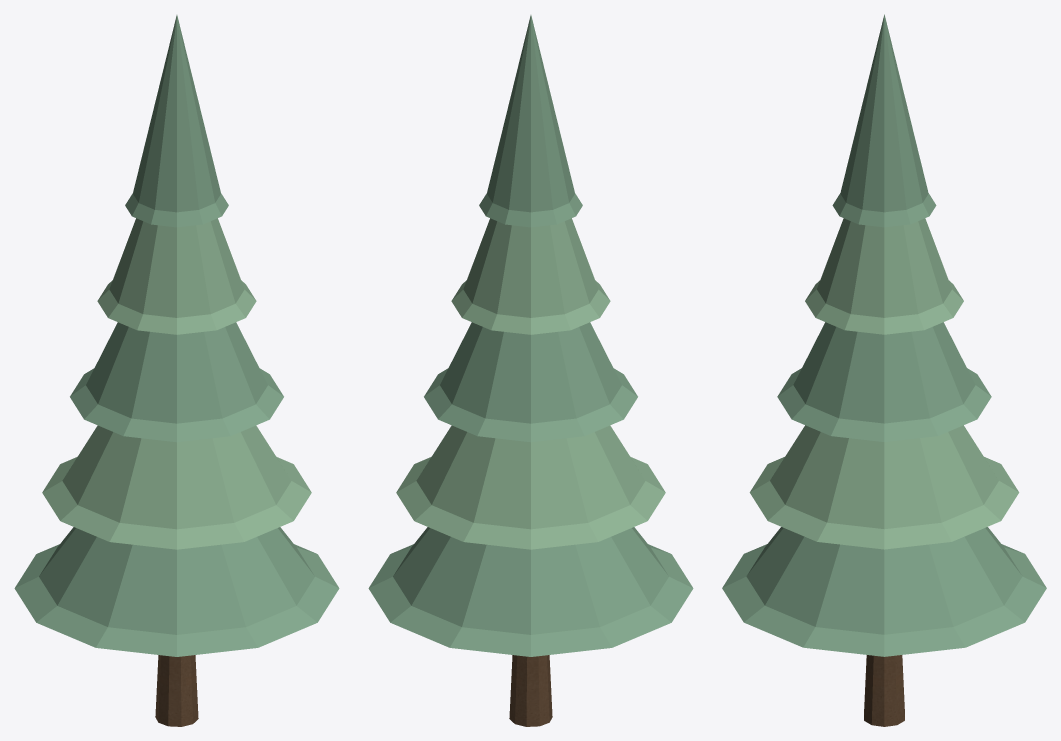
The model's file is pine_b.glb.
The picture shows the model from 3 angles, left to right: view 1: azimuth 30°, elevation 25°; view 2: azimuth 150°, elevation 25°; view 3: azimuth 270°, elevation 25°; orthographic projection.
Parts seen in each view (by area): view 1: pine_b_pine, pine_b_pine2, pine_b_bark; view 2: pine_b_pine, pine_b_pine2, pine_b_bark; view 3: pine_b_pine, pine_b_pine2, pine_b_bark.
Boxes of the visible parts, x1,y1,x2,y2 form: pine_b_pine: (14, 15, 339, 656); pine_b_pine2: (42, 218, 311, 549); pine_b_bark: (155, 655, 198, 726); pine_b_pine: (368, 15, 693, 656); pine_b_pine2: (396, 218, 665, 549); pine_b_bark: (509, 655, 552, 726); pine_b_pine: (722, 14, 1046, 656); pine_b_pine2: (749, 218, 1019, 549); pine_b_bark: (864, 655, 904, 726).
Bounding box in the file's own units: 3 × 7.17 × 3.
Materials: 3 (1 with a texture image).
